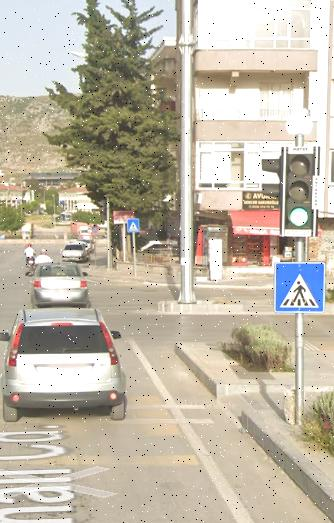greenlight: (281, 148, 314, 233)
